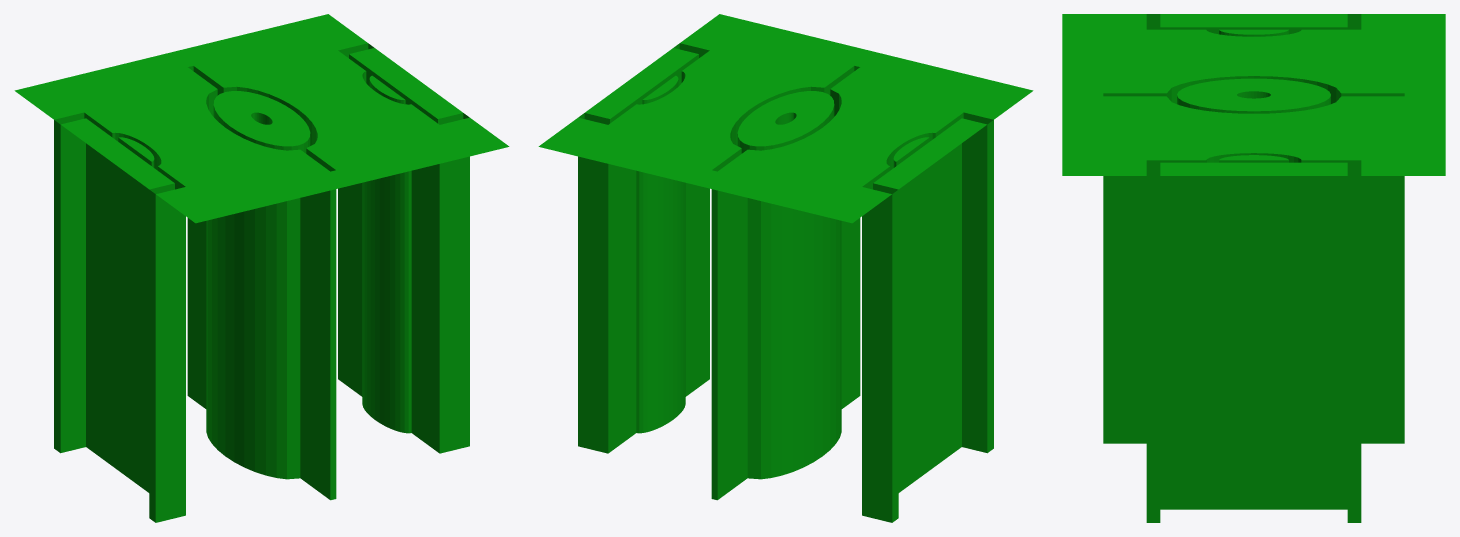
File: Table.glb
3 renders of one model, left to right at view 1: azimuth 30°, elevation 25°; view 2: azimuth 150°, elevation 25°; view 3: azimuth 270°, elevation 25°, orthographic. The views are drawn at different scales.
Parts seen in each view (by area): view 1: Table; view 2: Table; view 3: Table.
Boxes of the visible parts, bbox=[...] form: Table: bbox=[14, 14, 509, 522]; Table: bbox=[538, 14, 1033, 522]; Table: bbox=[1062, 14, 1445, 522].
Bounding box in the file's own units: 1 × 1 × 1.
